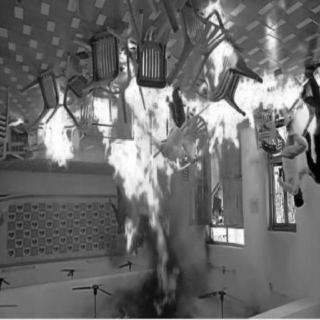Fire: (23, 31, 317, 310)
